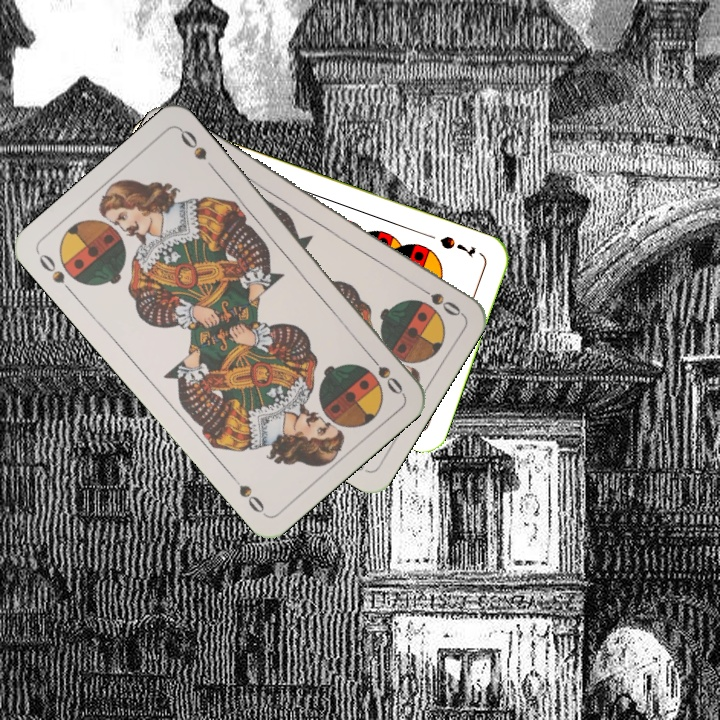S7: (436, 232, 478, 260)
SO: (362, 347, 406, 397), (34, 249, 77, 298), (411, 280, 464, 319)
